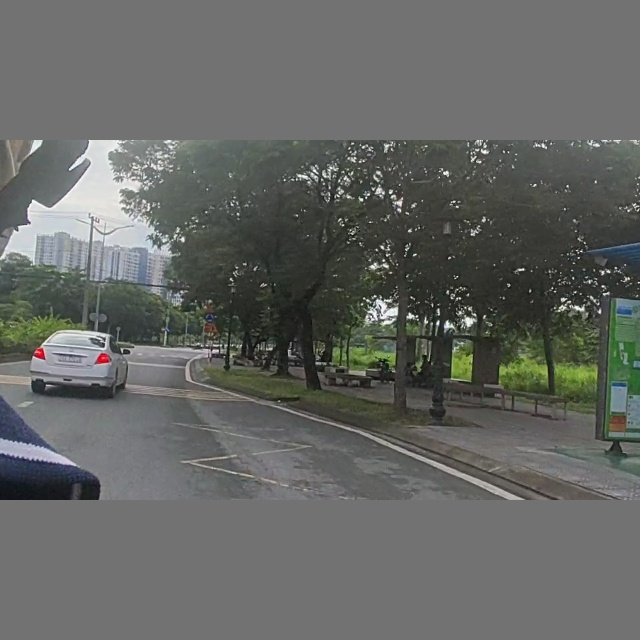R.303: (206, 313, 215, 323)
W.207: (209, 321, 220, 333)
